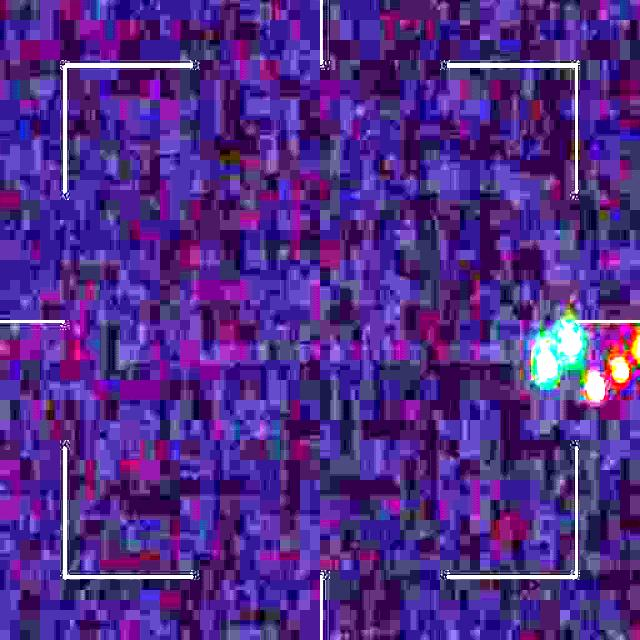bird: (534, 328, 640, 399)
